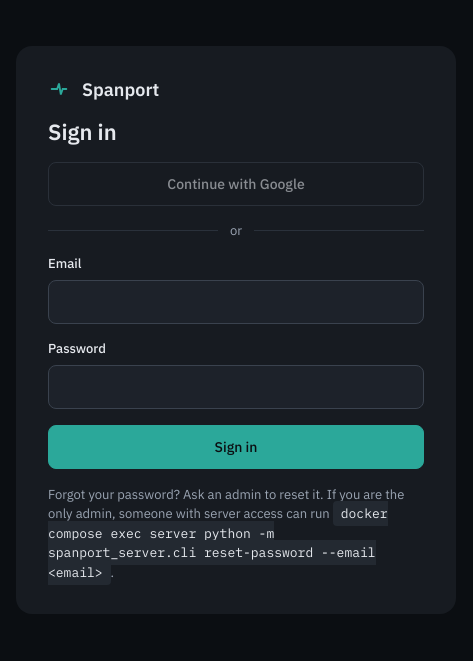
Sign in › shows the server's message for a wrong password
Type "owner@example.com" into the field labelled "Email" at (236, 302), box [48, 280, 424, 324]
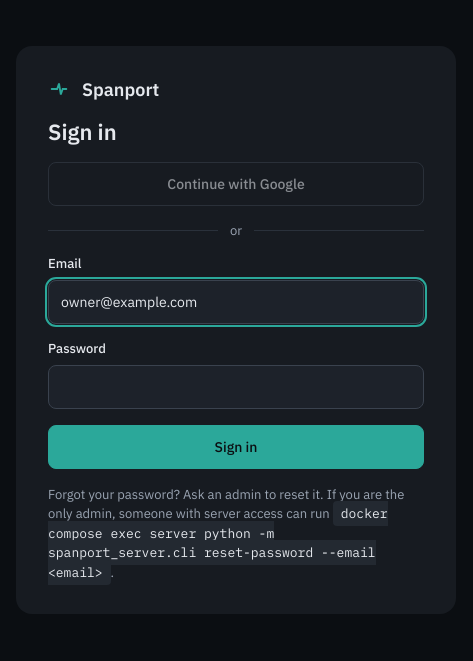
Type "wrong" into the password field labelled "Password" at (236, 387), box [48, 365, 424, 409]
Then press Enter
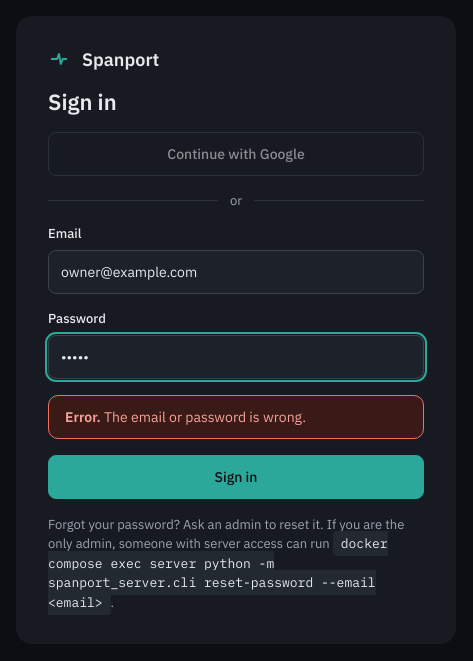
Now the message shows "The email or password is wrong.", box [104, 408, 306, 426]
